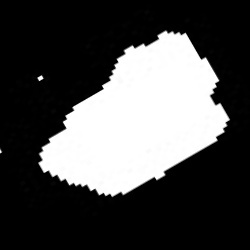pinhole: (37, 76, 42, 81)
spot: (39, 31, 230, 195)
